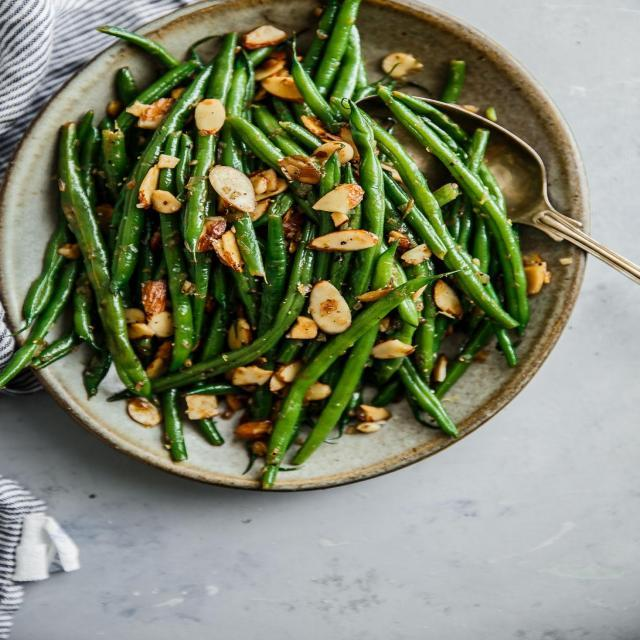Beans: (0, 0, 554, 493)
